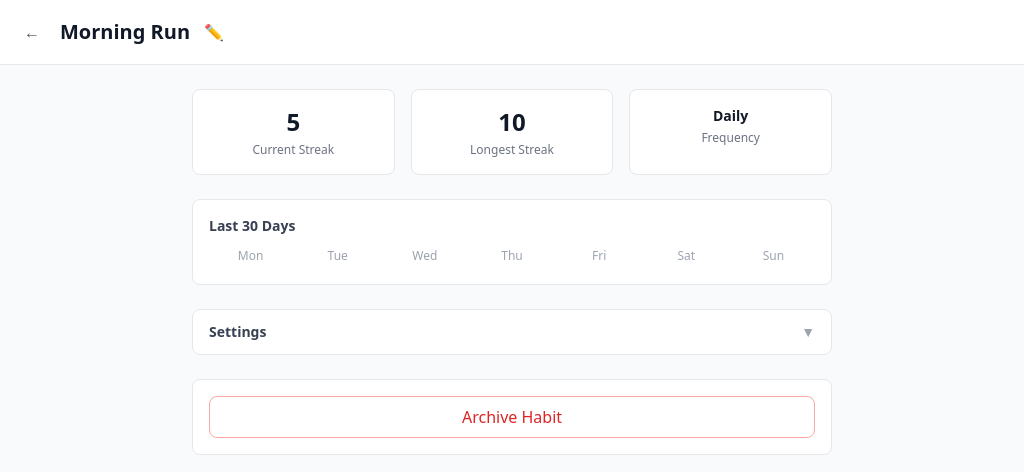
Test: HabitDetailView › Title editing › save button is disabled when input is empty
The image size is (1024, 472).
Click the button named "edit habit title": (214, 32) [198, 14, 230, 50]
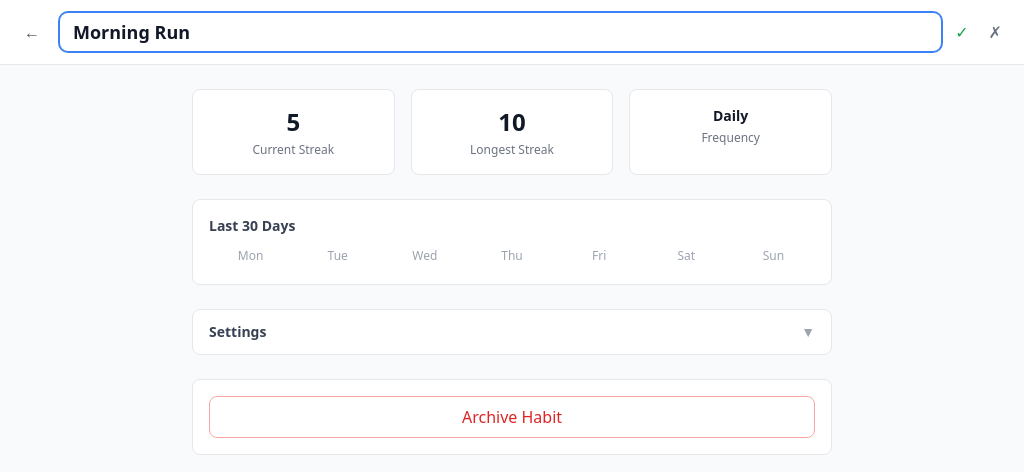
Clear the field named "edit habit title": (501, 32) [60, 13, 941, 51]
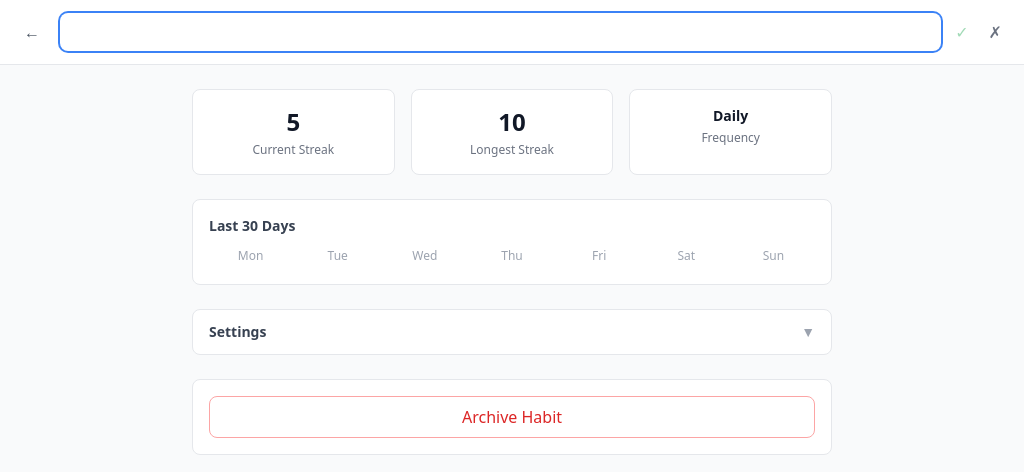
expect the button named "save title" is disabled: met, box [949, 14, 975, 50]
